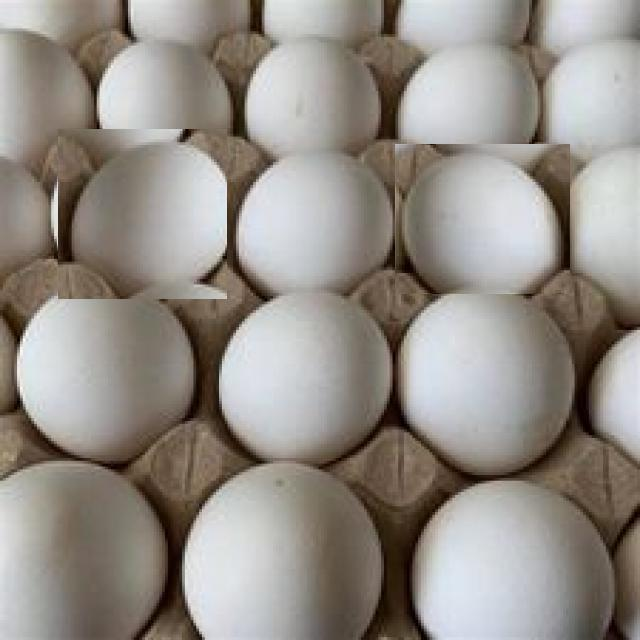Egg: (408, 471, 623, 640), (218, 284, 396, 488), (58, 129, 227, 299), (395, 144, 570, 294)
